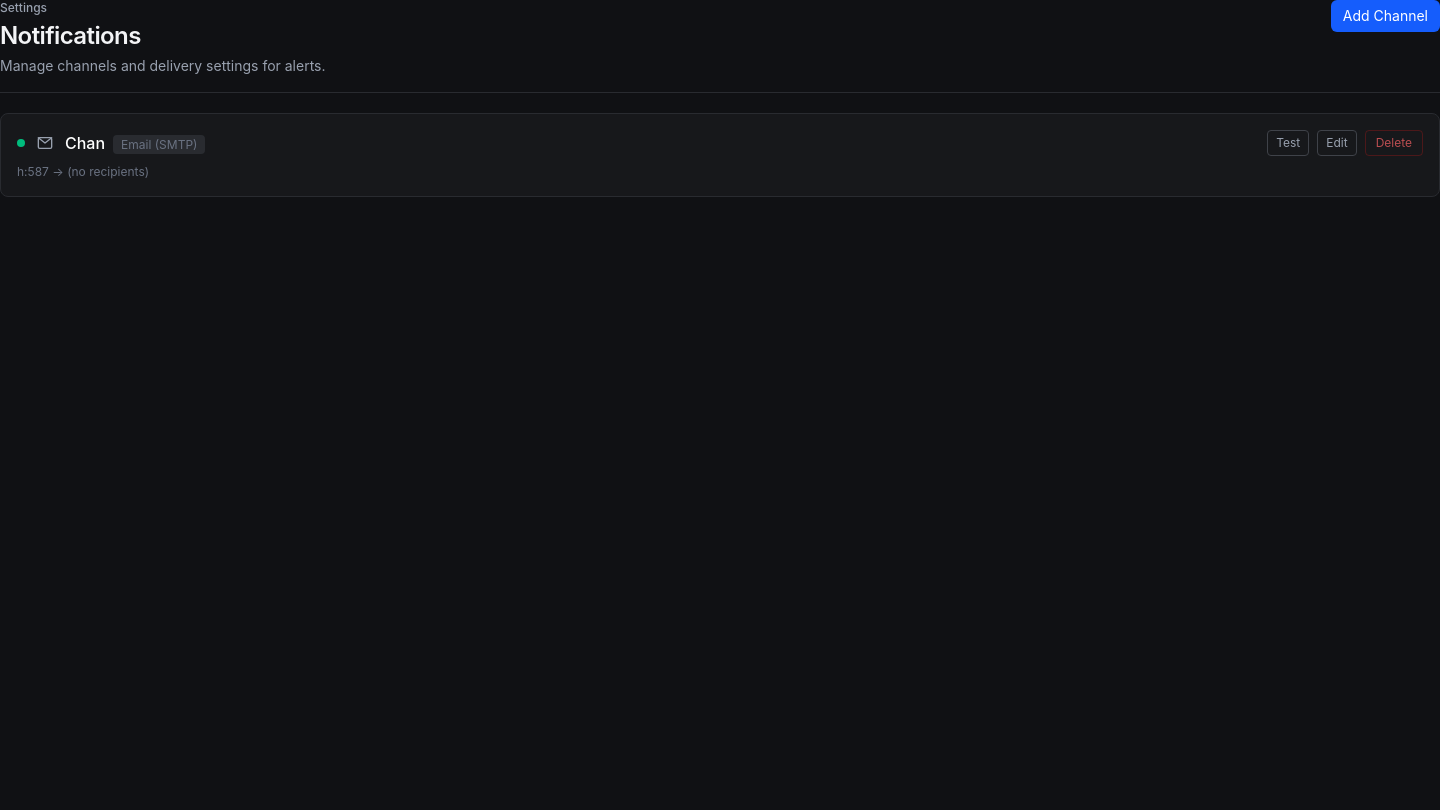
Test case: [HARDEN-002][AC-037][C3] browser autofill opt-out › [HARDEN-002][AC-037][C3] secret inputs opt out of browser credential autofill (smtp)
What coordinates should you click on to do the following:
click the button "Edit"
I would click on:
 (1337, 143)
Its box is top-left (1317, 130), bottom-right (1357, 156).
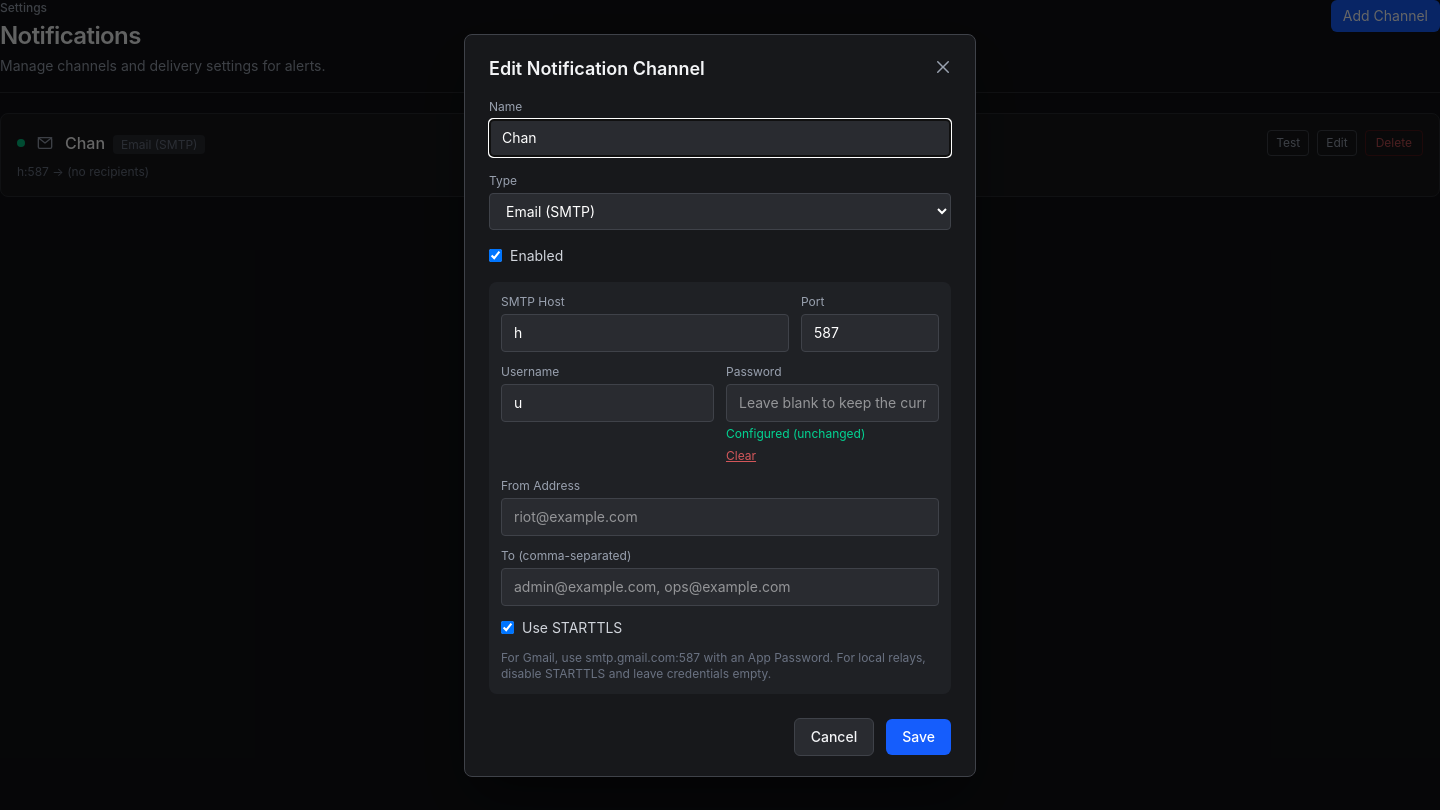
Now the element with class "inset-0" is shown
